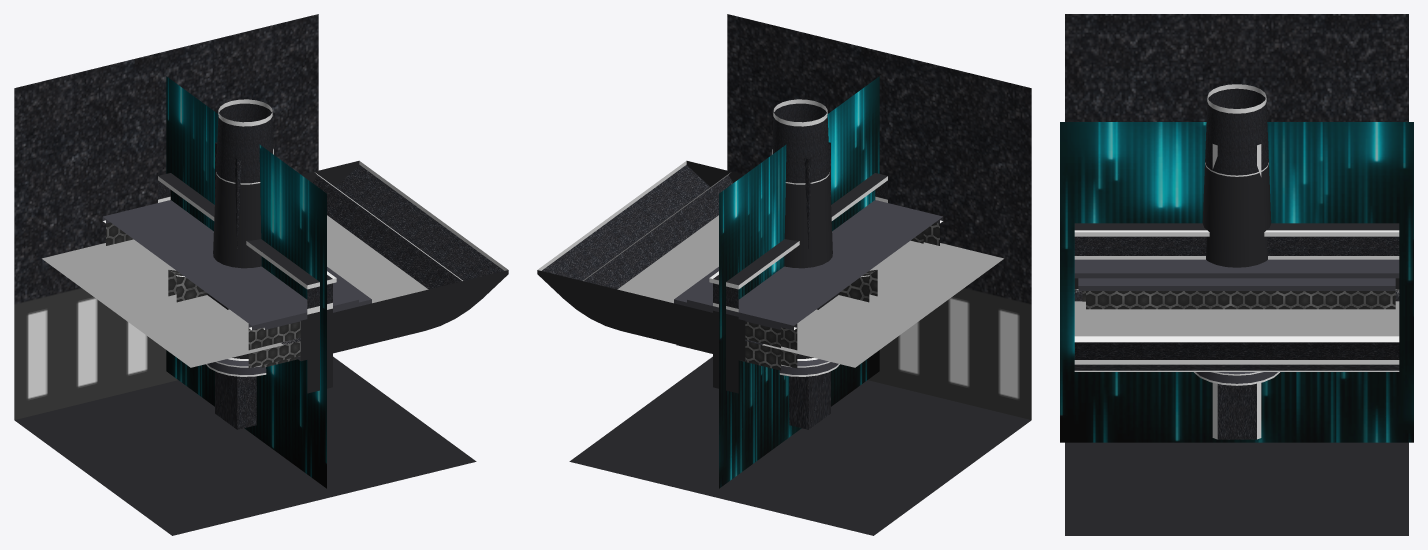
The model's file is Hallway.fbx.
The picture shows the model from 3 angles, left to right: view 1: azimuth 30°, elevation 25°; view 2: azimuth 150°, elevation 25°; view 3: azimuth 270°, elevation 25°; orthographic projection. The views are drawn at different scales.
Parts seen in each view (by area): view 1: pCube25, Screen, Floor, Roof, footpath_R1, pillar, Wall, Small_roof, Pillar, footpath_R, footpath_Full, footpath_L (+1 smaller); view 2: pCube25, Screen, Floor, Small_roof, pillar, Roof, footpath_R1, footpath_R, Wall, Pillar, footpath_L, footpath_Full (+1 smaller); view 3: pCube25, Screen, pillar, footpath_L, Wall, Floor, Small_roof, footpath_R1, Roof, Pillar, footpath_R, footpath_Full.
Part boxes in pixels (bbox=[...]): pCube25: bbox=[14, 14, 476, 535]; Screen: bbox=[166, 76, 326, 488]; Floor: bbox=[42, 215, 428, 367]; Roof: bbox=[296, 160, 508, 361]; footpath_R1: bbox=[106, 202, 307, 368]; pillar: bbox=[206, 99, 273, 376]; Wall: bbox=[158, 173, 336, 393]; Small_roof: bbox=[313, 172, 462, 289]; Pillar: bbox=[215, 142, 273, 429]; footpath_R: bbox=[102, 200, 306, 322]; footpath_Full: bbox=[103, 201, 358, 330]; footpath_L: bbox=[261, 267, 371, 367]; pCube25: bbox=[569, 14, 1031, 535]; Screen: bbox=[719, 76, 879, 488]; Floor: bbox=[617, 215, 1003, 367]; Small_roof: bbox=[579, 172, 745, 361]; pillar: bbox=[772, 99, 839, 376]; Roof: bbox=[537, 160, 746, 360]; footpath_R1: bbox=[691, 203, 939, 368]; footpath_R: bbox=[687, 203, 936, 330]; Wall: bbox=[709, 173, 887, 393]; Pillar: bbox=[772, 142, 830, 429]; footpath_L: bbox=[674, 231, 923, 370]; footpath_Full: bbox=[688, 200, 943, 325]; pCube25: bbox=[1065, 14, 1408, 535]; Screen: bbox=[1060, 122, 1413, 442]; pillar: bbox=[1194, 84, 1279, 385]; footpath_L: bbox=[1078, 278, 1395, 309]; Wall: bbox=[1074, 223, 1399, 288]; Floor: bbox=[1074, 290, 1399, 336]; Small_roof: bbox=[1074, 336, 1399, 359]; footpath_R1: bbox=[1082, 259, 1391, 301]; Roof: bbox=[1074, 360, 1399, 371]; Pillar: bbox=[1212, 144, 1261, 439]; footpath_R: bbox=[1082, 259, 1399, 278]; footpath_Full: bbox=[1074, 259, 1398, 278].
Bounding box in the file's own units: 13.18 × 12.26 × 10.9.
